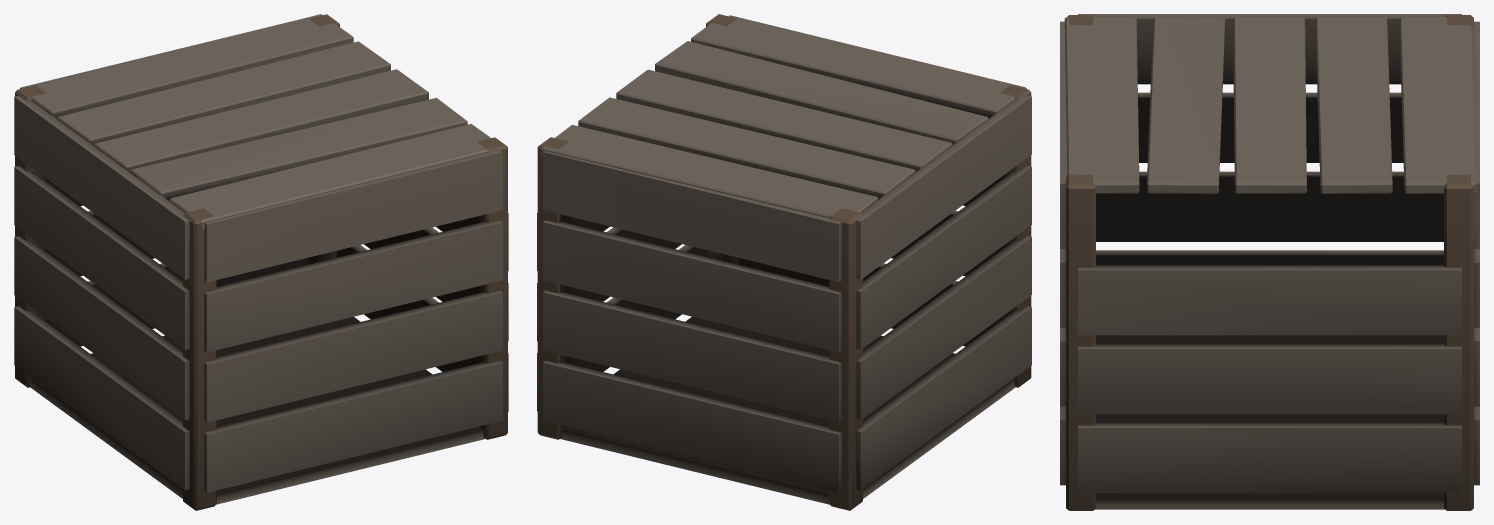
The model's file is prop.crate.glb.
3 renders of one model, left to right at view 1: azimuth 30°, elevation 25°; view 2: azimuth 150°, elevation 25°; view 3: azimuth 270°, elevation 25°, orthographic. The views are drawn at different scales.
Parts seen in each view (by area): view 1: LOD0; view 2: LOD0; view 3: LOD0.
Boxes of the visible parts, x1,y1,x2,y2 form: LOD0: [14, 14, 508, 510]; LOD0: [537, 14, 1031, 510]; LOD0: [1060, 14, 1479, 510].
Size of what is drawn, in the model's own units: 0.7 by 0.6 by 0.7.
